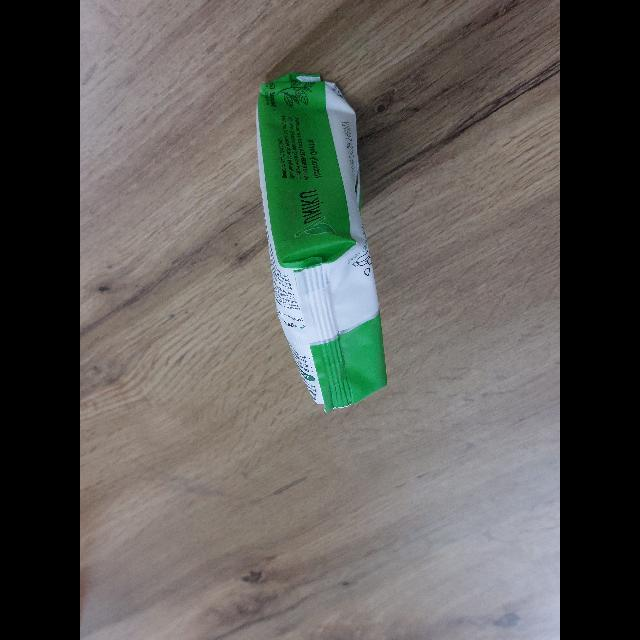khan_giay: (257, 75, 387, 411)
